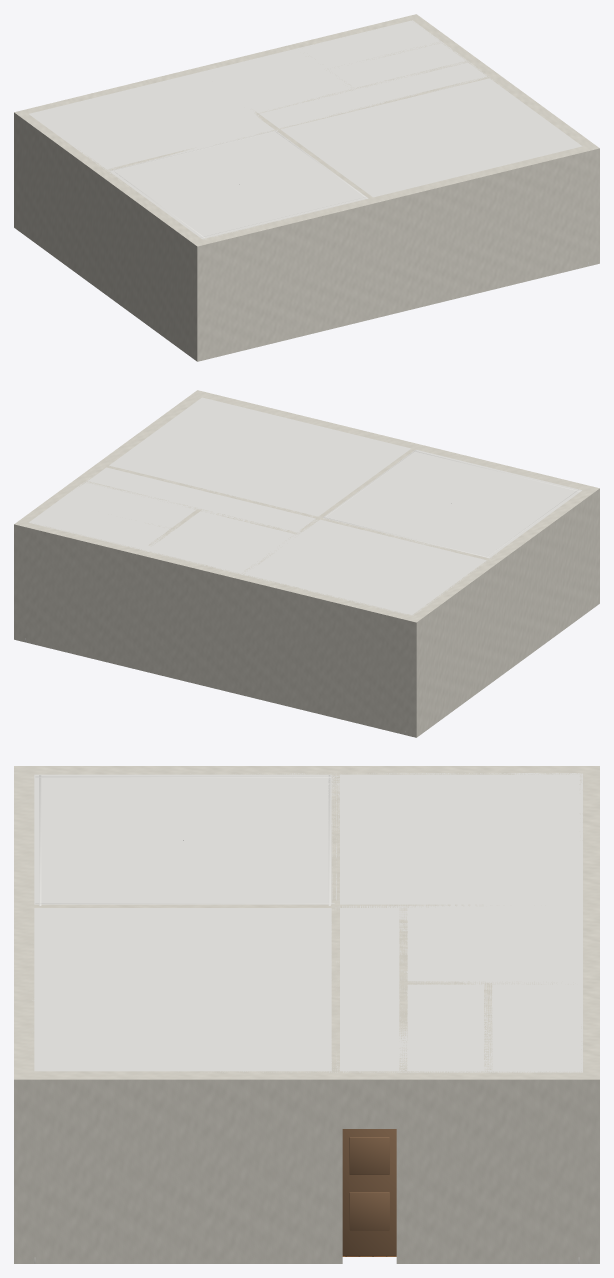
File: apartment.glb
3 views of the same model, one above another, from view 1: azimuth 30°, elevation 25°; view 2: azimuth 150°, elevation 25°; view 3: azimuth 270°, elevation 25° (orthographic). The views are drawn at different scales.
Visible parts, largest first — view 1: Apartment, Ceiling; view 2: Apartment, Ceiling; view 3: Ceiling, Apartment.
Boxes of the visible parts, x1,y1,x2,y2 form: Apartment: (14, 14, 599, 361); Ceiling: (29, 20, 582, 239); Apartment: (14, 390, 599, 737); Ceiling: (29, 397, 581, 615); Ceiling: (32, 773, 582, 1072); Apartment: (14, 766, 599, 1263).
Size of the model in its own units: 10.96 by 3.06 by 8.65.
Materials: 93 (23 with a texture image).
